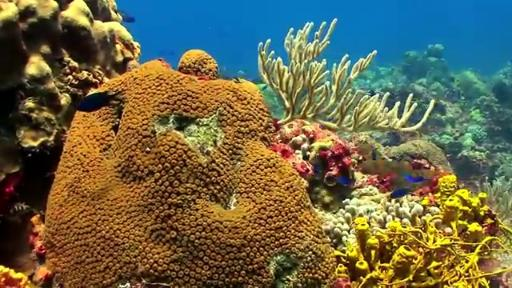Fish: (390, 174, 425, 198), (76, 92, 113, 111), (118, 11, 135, 23), (390, 188, 410, 198), (404, 175, 424, 183), (336, 176, 351, 185), (257, 84, 267, 91), (372, 145, 376, 159)
